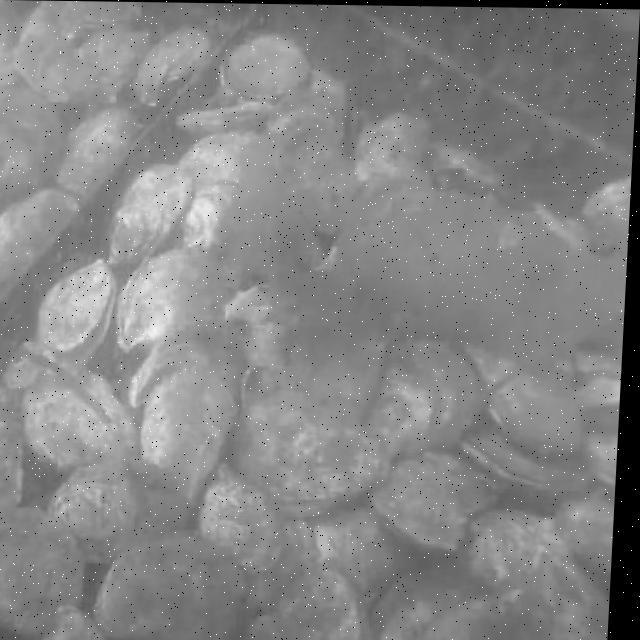Oyster-Closed: (430, 145, 535, 215), (176, 101, 277, 138)
Oyster-Indeterminate: (89, 533, 254, 640), (248, 389, 385, 514), (475, 511, 601, 638), (0, 0, 141, 110), (132, 365, 238, 498), (379, 572, 564, 640), (373, 453, 494, 555), (454, 432, 604, 511), (203, 472, 292, 594), (105, 166, 194, 286), (375, 342, 463, 463), (0, 510, 85, 633), (0, 187, 82, 308), (0, 88, 85, 204), (121, 250, 210, 354), (54, 108, 144, 206), (32, 261, 115, 367), (490, 363, 585, 454), (309, 514, 397, 606), (123, 340, 238, 410), (50, 470, 149, 550), (252, 572, 366, 640), (268, 76, 360, 160), (279, 141, 357, 237), (215, 33, 311, 109), (76, 30, 166, 109), (133, 30, 214, 115), (225, 285, 295, 371), (352, 112, 430, 188), (572, 176, 631, 268), (555, 500, 614, 589), (181, 183, 238, 268), (178, 131, 261, 189), (528, 203, 598, 258), (568, 368, 621, 440), (0, 387, 26, 511), (586, 435, 618, 493), (0, 25, 12, 106)
Oyster-Open: (23, 389, 136, 474)
